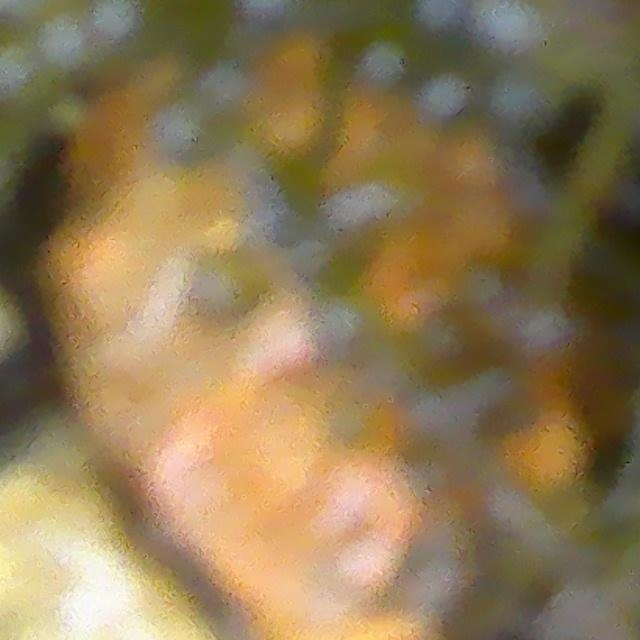SeaGrape: (410, 0, 473, 38)
